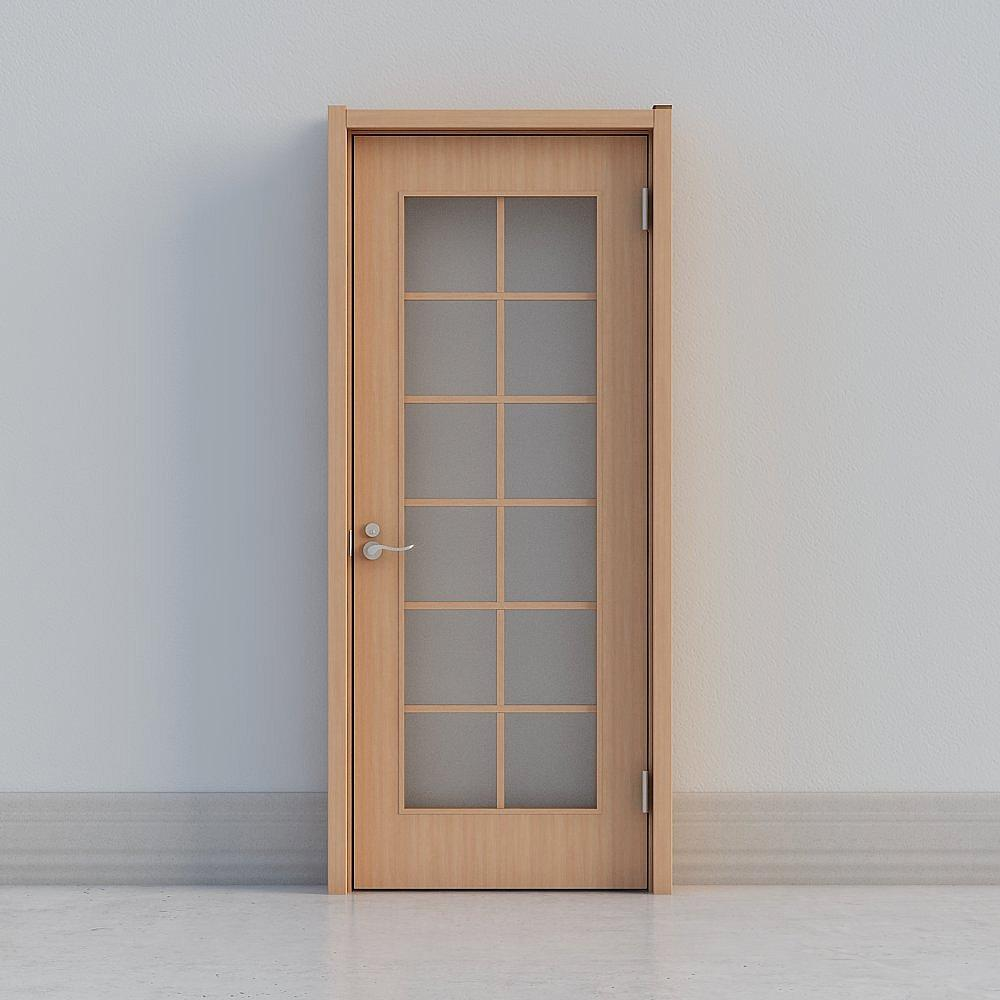door: (355, 133, 651, 889)
